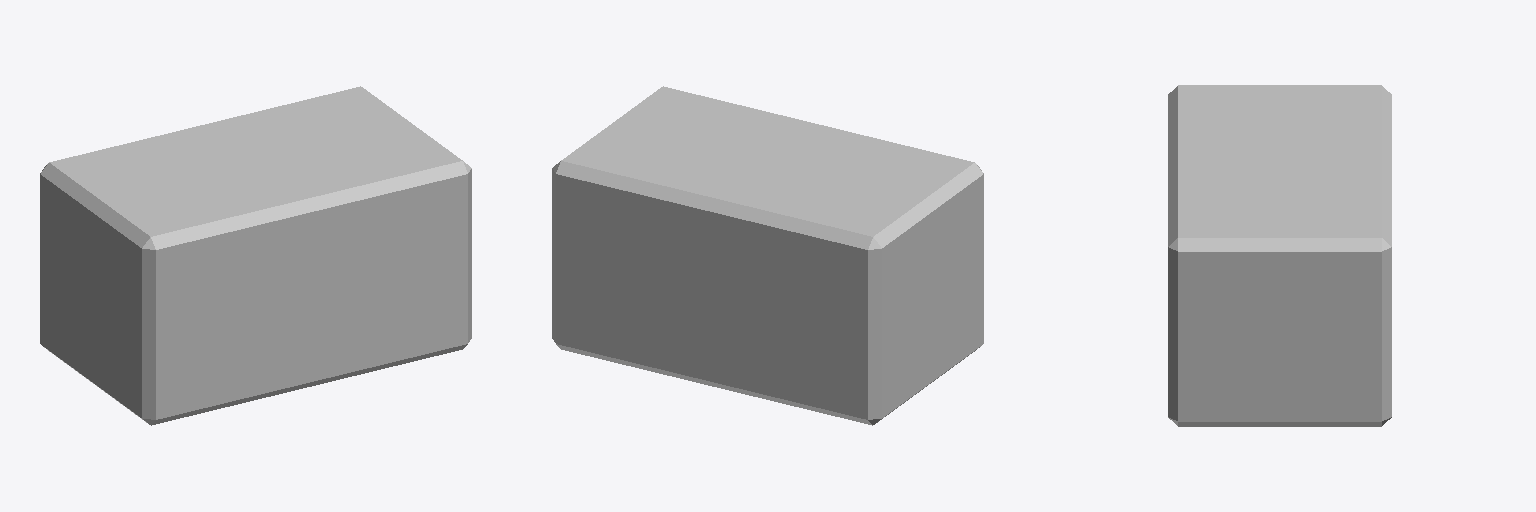
3 renders of one model, left to right at view 1: azimuth 30°, elevation 25°; view 2: azimuth 150°, elevation 25°; view 3: azimuth 270°, elevation 25°, orthographic.
Parts seen in each view (by area): view 1: Cube_Small; view 2: Cube_Small; view 3: Cube_Small.
Part boxes in pixels (bbox=[...]): Cube_Small: bbox=[40, 86, 471, 425]; Cube_Small: bbox=[552, 86, 983, 425]; Cube_Small: bbox=[1168, 85, 1391, 426].
Size of the model in its own units: 217 by 118 by 127.